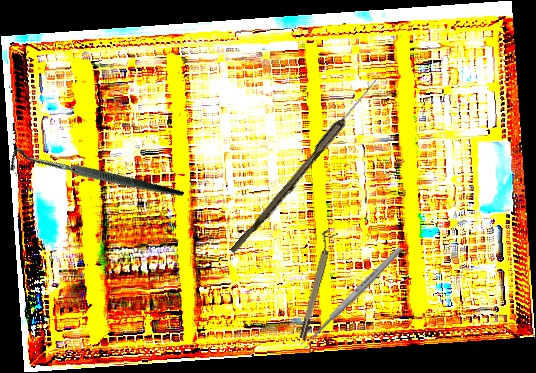Fixation Ring: (292, 229, 339, 340)
Hook Surgical: (3, 90, 185, 267)
Surgical Spoon: (230, 72, 383, 257), (299, 245, 404, 350)
